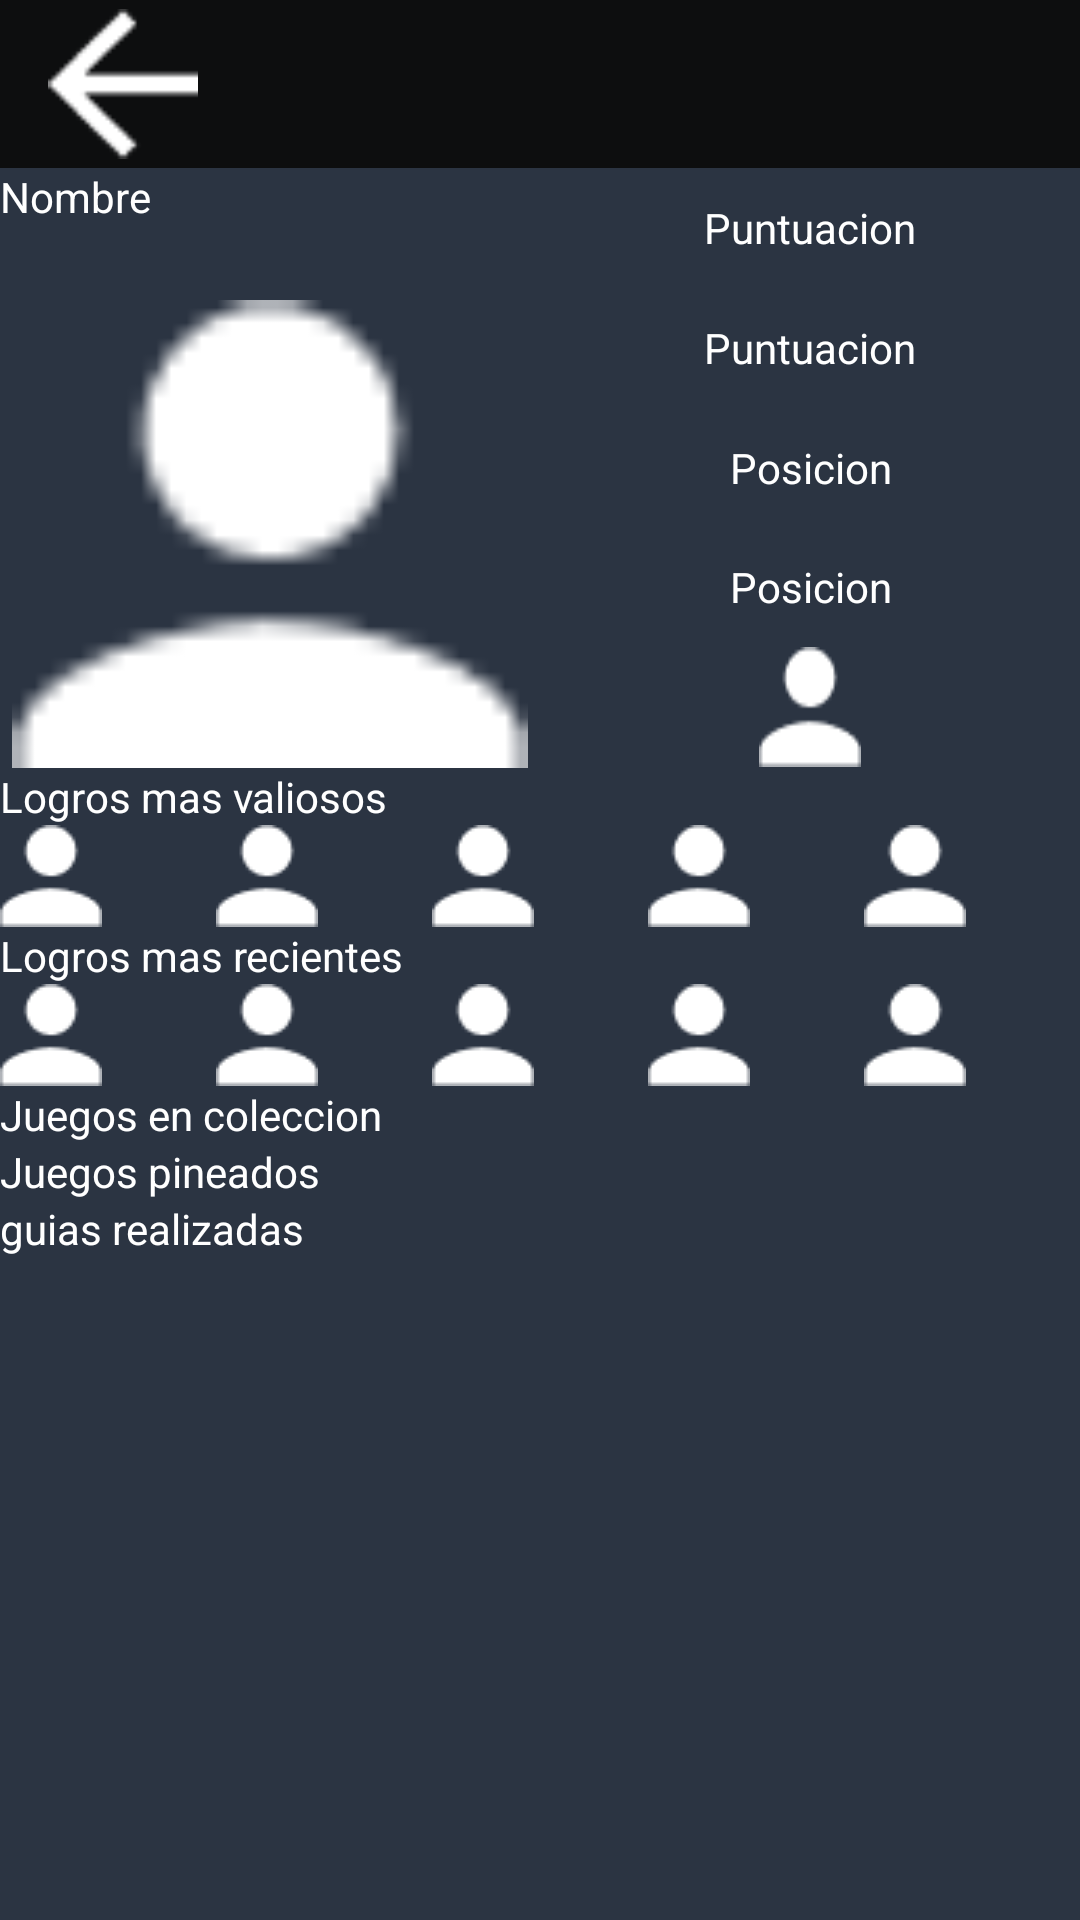

Icon click points for this 1080px×1920px phone screenshot, format (x=x, y=y):
back: (x=123, y=84)
